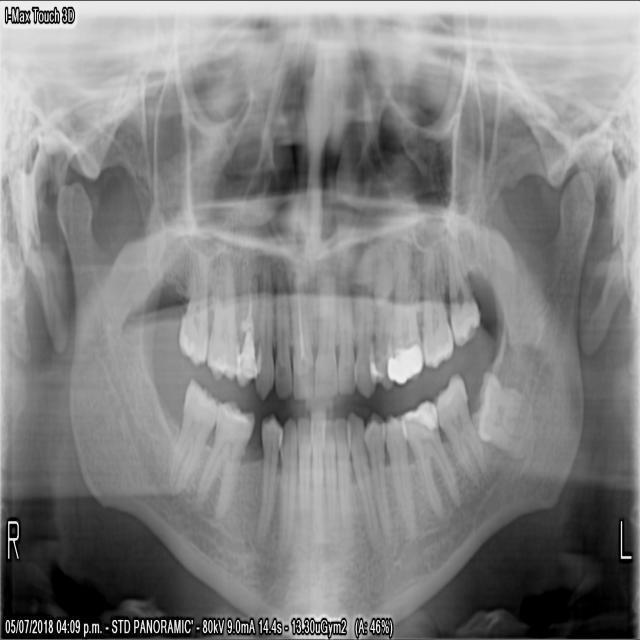LCD: (346, 414, 383, 549)
LCU: (353, 252, 377, 402)
LID: (336, 415, 352, 522), (324, 418, 337, 534)
LIU: (314, 258, 339, 400), (338, 257, 357, 403)
LMD: (403, 385, 462, 522), (432, 370, 490, 495), (475, 368, 535, 465)
LMU: (385, 240, 425, 388), (420, 245, 457, 378), (441, 239, 482, 349)
LPMD: (382, 405, 414, 532), (365, 410, 393, 539)
LPMU: (368, 249, 394, 390)
RCD: (275, 414, 298, 558)
RCU: (255, 250, 274, 405)
RID: (309, 405, 325, 545), (298, 415, 311, 530)
RIU: (289, 263, 314, 404), (274, 253, 291, 402)
RMD: (193, 400, 254, 520), (164, 380, 220, 494)
RMU: (174, 239, 210, 370), (205, 242, 237, 387)
RPMD: (250, 412, 281, 552)
RPMU: (237, 250, 259, 388)
